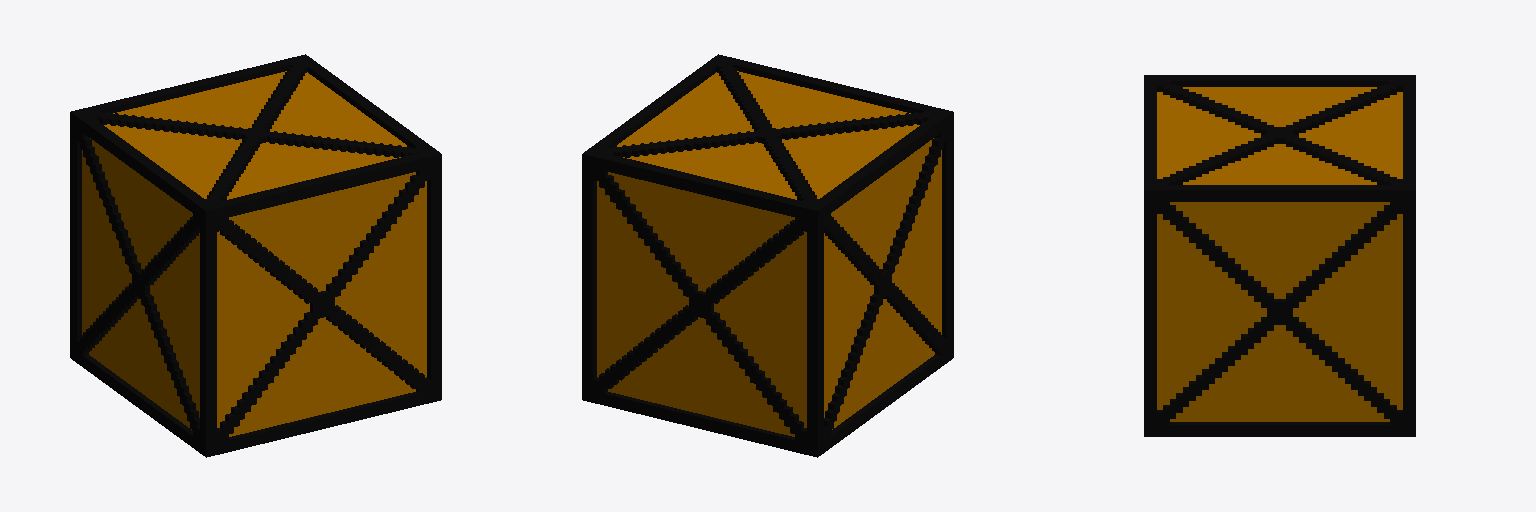
3 views of the same model, side by side, from view 1: azimuth 30°, elevation 25°; view 2: azimuth 150°, elevation 25°; view 3: azimuth 270°, elevation 25° (orthographic).
Visible parts, largest first — view 1: object 1; view 2: object 1; view 3: object 1.
Boxes of the visible parts, x1,y1,x2,y2 form: object 1: [70, 54, 441, 457]; object 1: [582, 54, 953, 457]; object 1: [1144, 75, 1415, 436].
Size of the model in its own units: 4.2 by 4.2 by 4.2.
Materials: 1 (1 with a texture image).